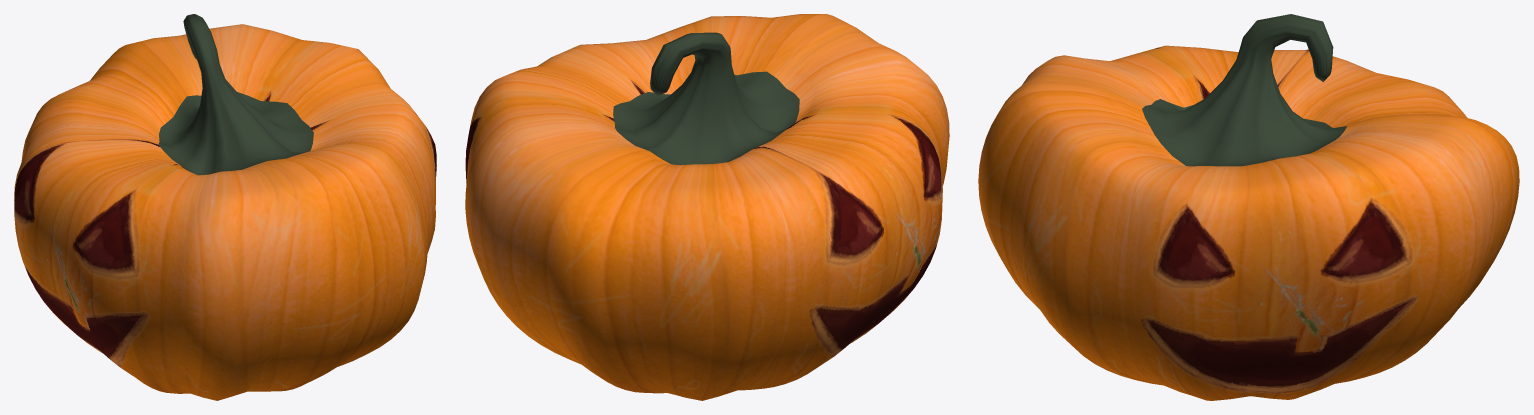
Rendered from PUMPKIN_SMALL.fbx.
The picture shows the model from 3 angles, left to right: view 1: azimuth 30°, elevation 25°; view 2: azimuth 150°, elevation 25°; view 3: azimuth 270°, elevation 25°; orthographic projection. The views are drawn at different scales.
Visible parts, largest first — view 1: pSphere8; view 2: pSphere8; view 3: pSphere8.
Boxes of the visible parts, bbox=[...] form: pSphere8: bbox=[14, 14, 436, 400]; pSphere8: bbox=[465, 14, 949, 400]; pSphere8: bbox=[978, 14, 1519, 400].
Size of the model in its own units: 0.5894 by 0.5179 by 0.7078.
